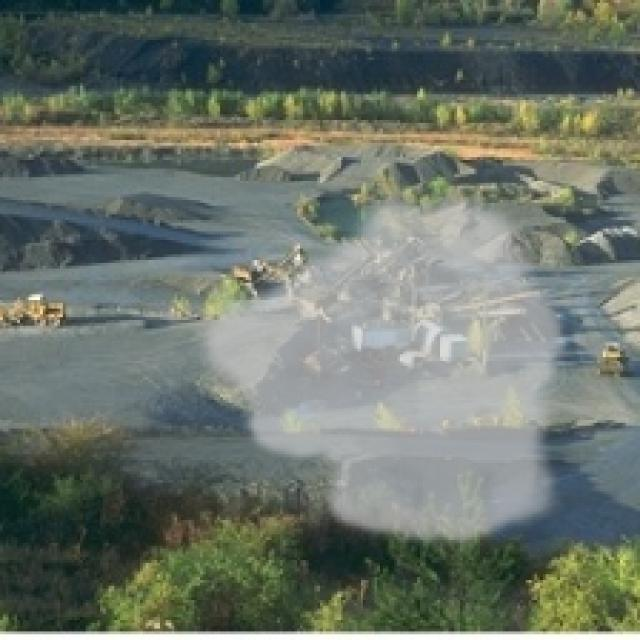smoke: (188, 180, 572, 551)
